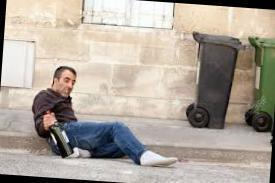Drunk: (58, 70, 75, 98)
